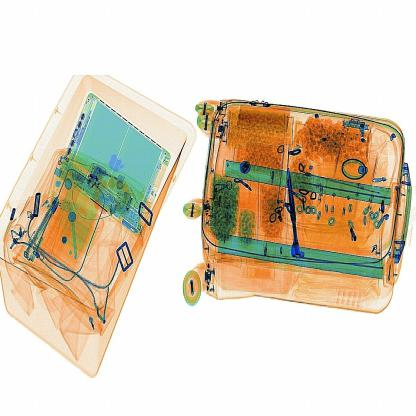gun: (278, 159, 303, 271)
